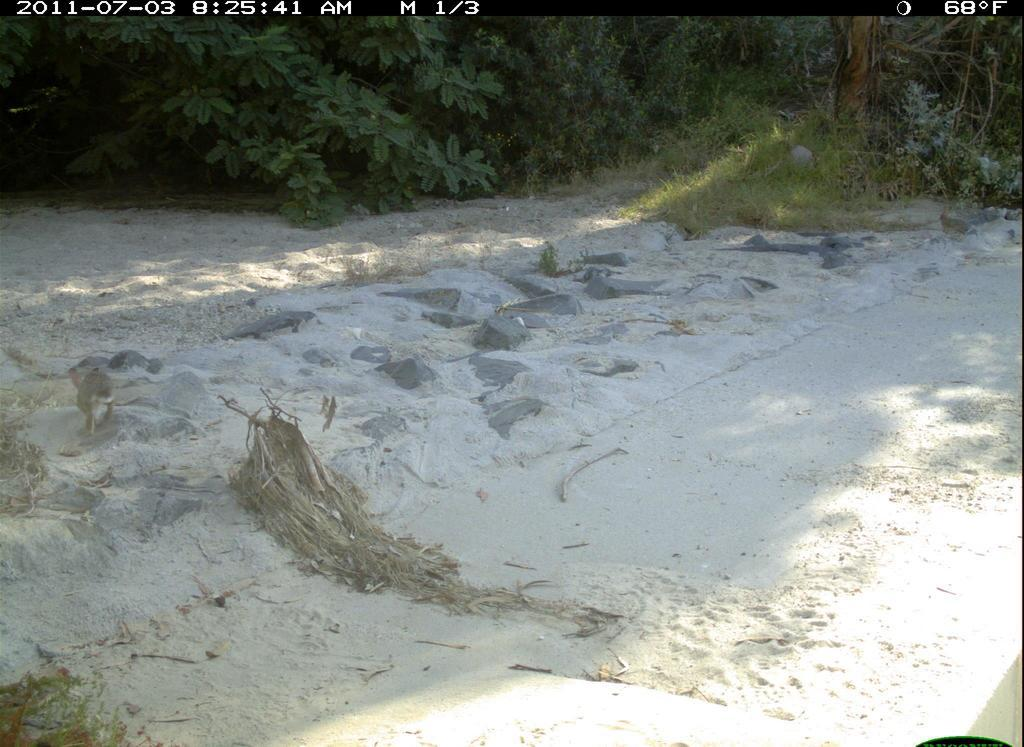rabbit: (62, 359, 122, 449)
